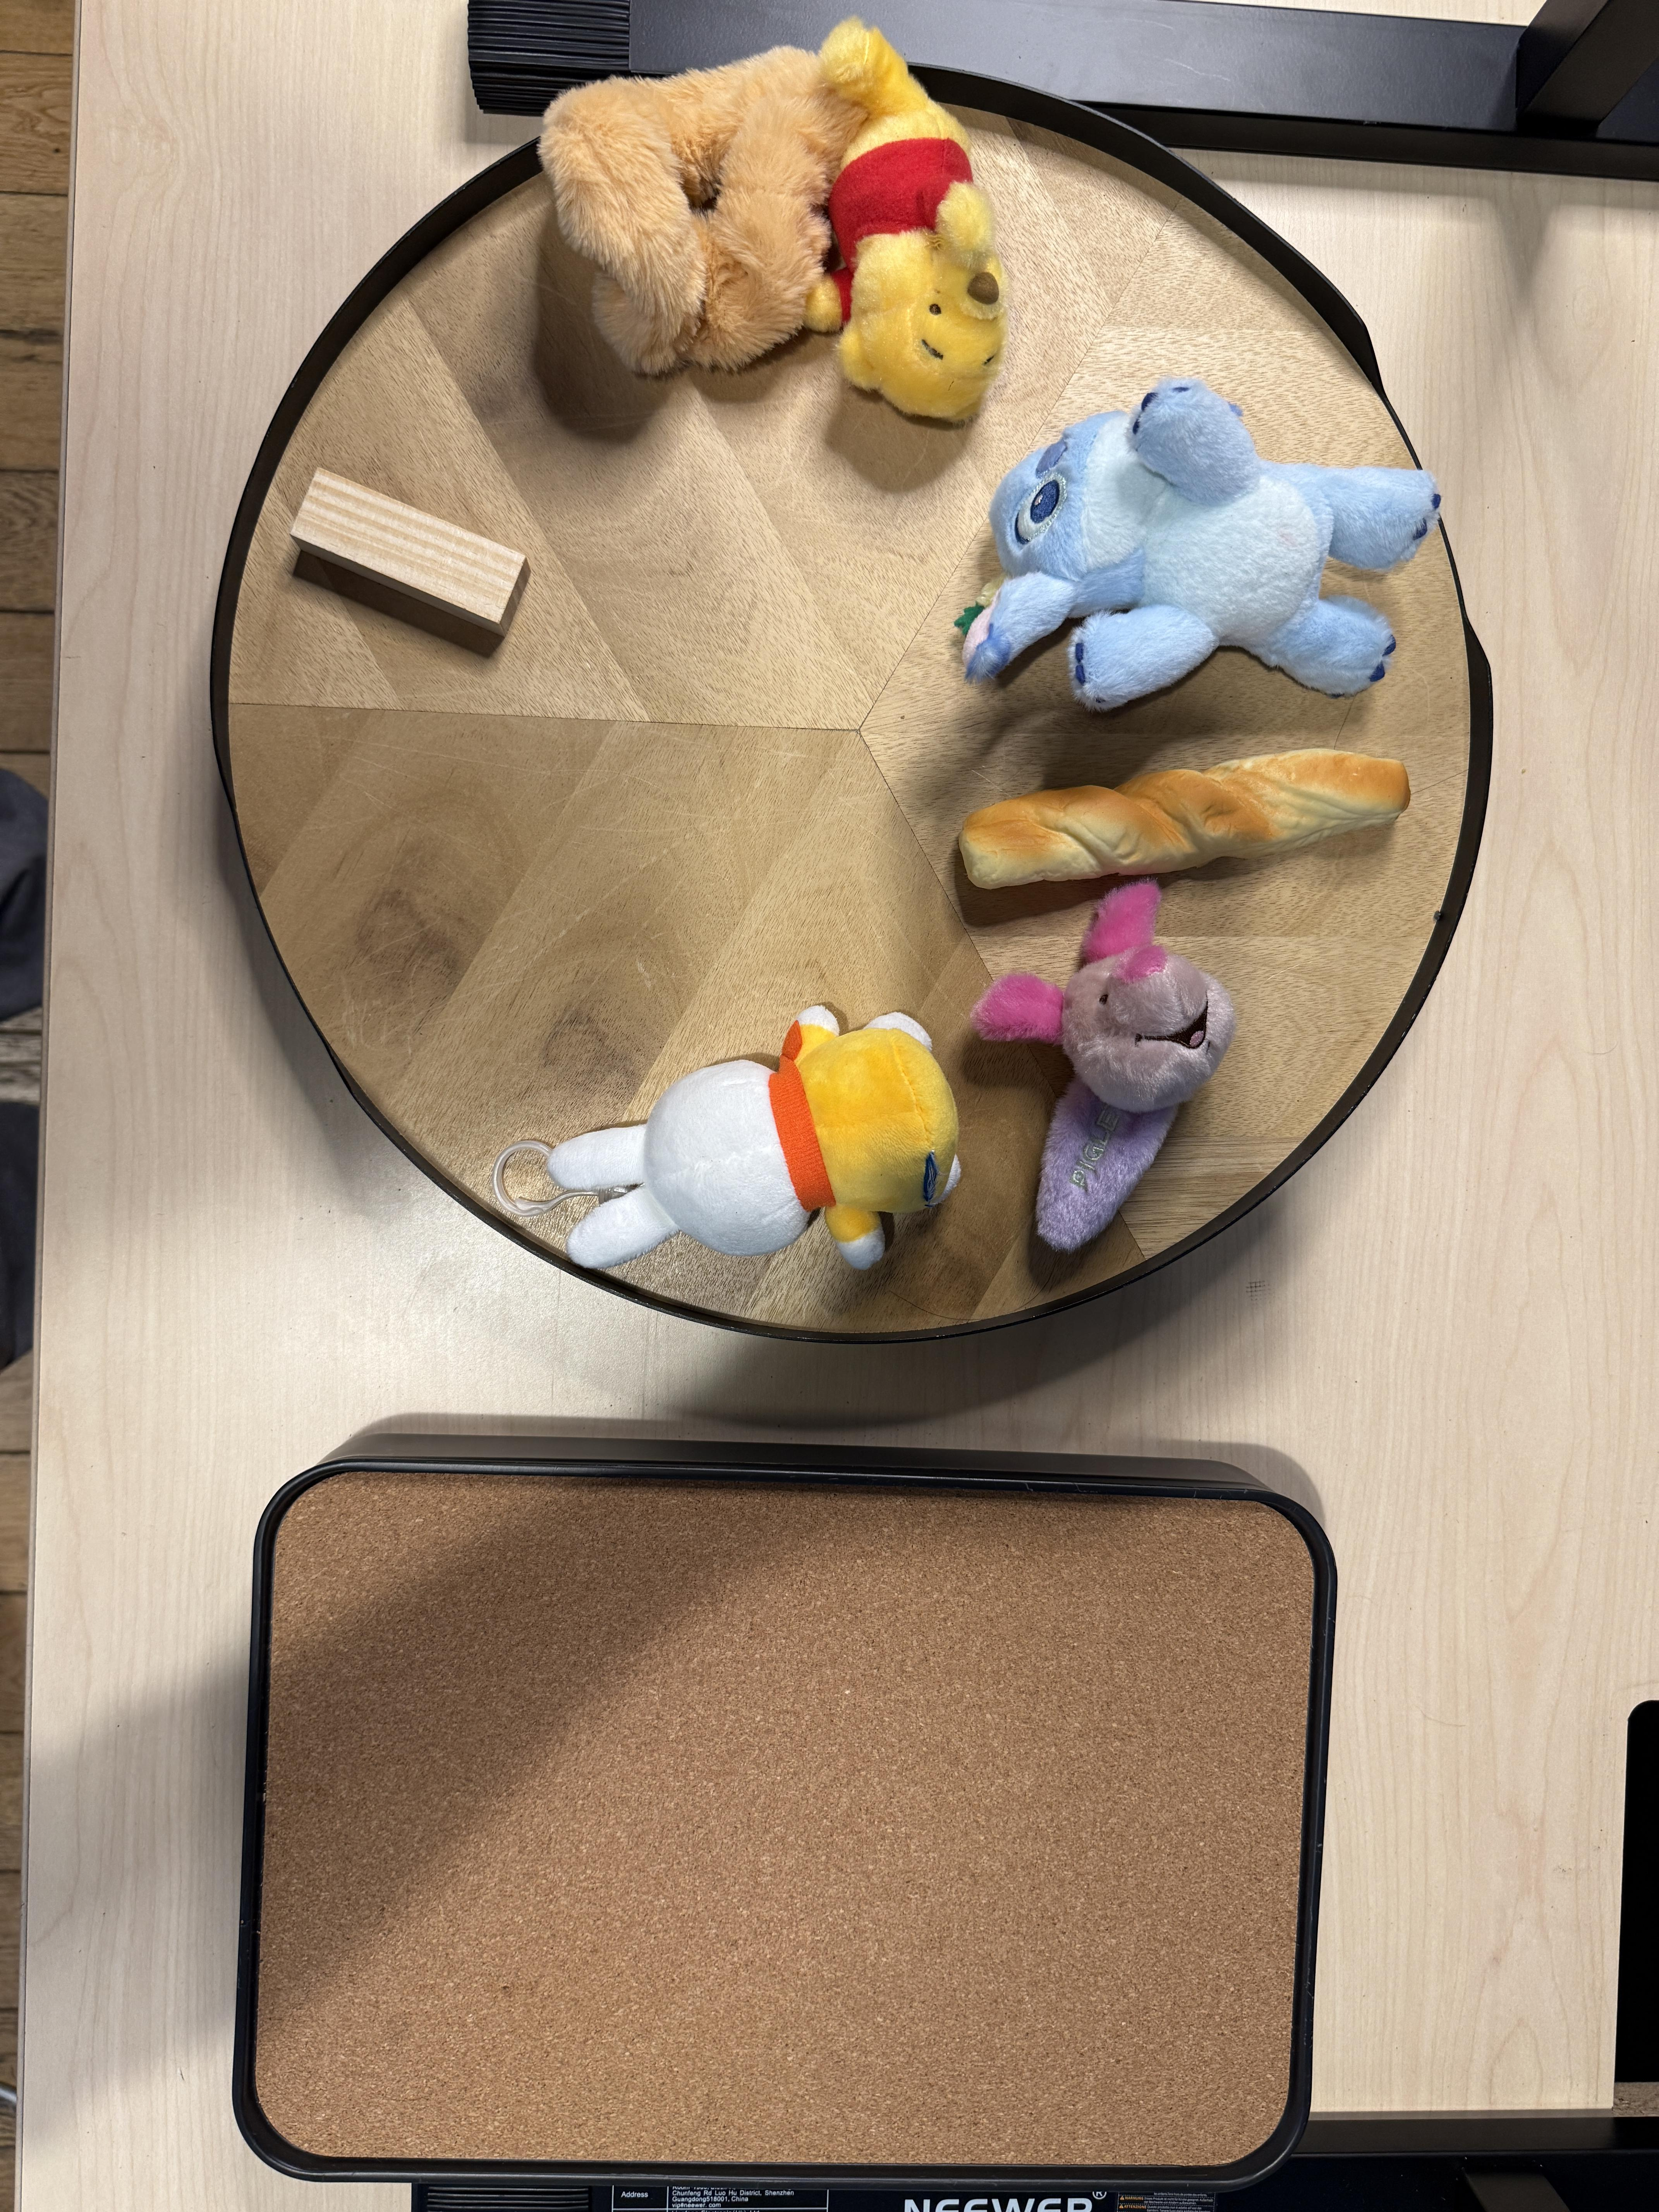block: (275, 472, 544, 655)
bread: (953, 740, 1413, 881)
doll: (538, 31, 1014, 428), (964, 364, 1445, 718), (504, 1000, 988, 1284), (957, 895, 1281, 1256)
